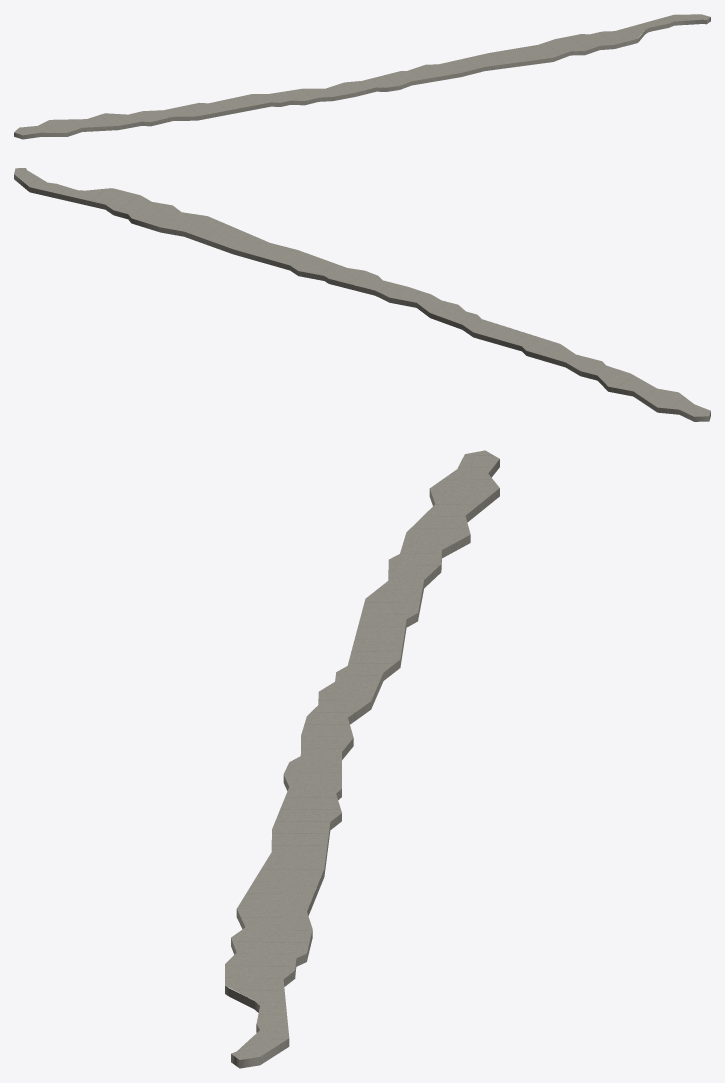
The model's file is curb_03.glb.
The picture shows the model from 3 angles, top to bottom: view 1: azimuth 30°, elevation 25°; view 2: azimuth 150°, elevation 25°; view 3: azimuth 270°, elevation 25°; orthographic projection. The views are drawn at different scales.
Visible parts, largest first — view 1: curb_03.surface, curb_03.sides; view 2: curb_03.surface, curb_03.sides; view 3: curb_03.surface, curb_03.sides.
Part boxes in pixels (x1,y1,x2,y2): curb_03.surface: (14,14,710,135); curb_03.sides: (14,17,710,139); curb_03.surface: (14,168,710,416); curb_03.sides: (14,174,710,421); curb_03.surface: (225,450,499,1059); curb_03.sides: (225,459,499,1068).
Size of the model in its own units: 25.1 by 0.3646 by 4.7.
Materials: 1 (1 with a texture image).
